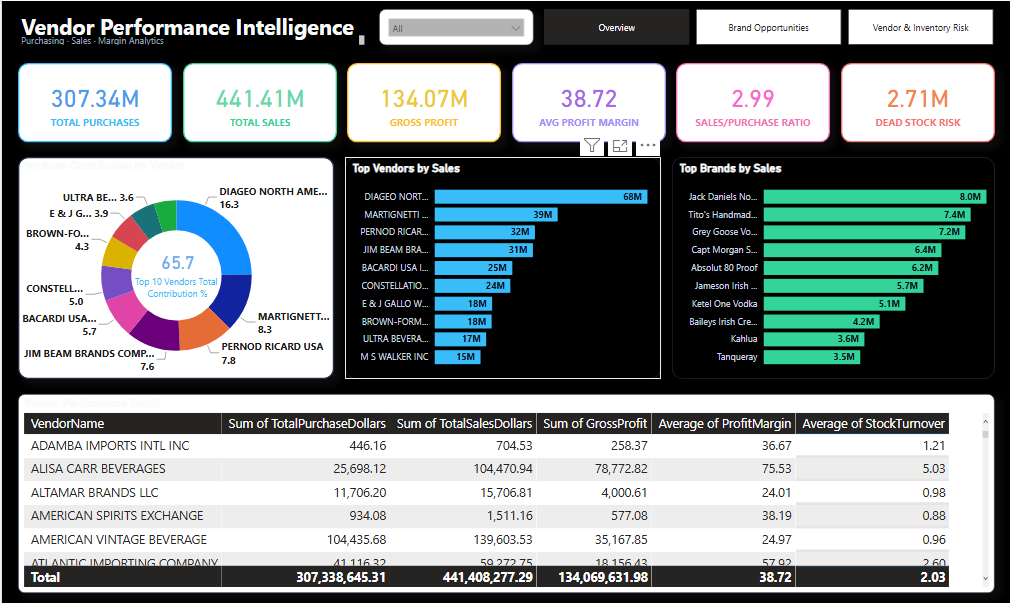

The dashboard page shown, as its layout file describes it:
{"tool":"powerbi","page":{"name":"Overview","canvas":[1500,900],"ordinal":0},"visuals":[{"type":"basicShape","box":[24,76,1452,3],"z":0},{"type":"textbox","box":[24,10,520,56],"z":1000},{"type":"textbox","box":[24,46,520,24],"z":2000},{"type":"slicer","fields":{"Values":["vendor_sales_summary.VendorName"]},"box":[560,12,230,54],"z":3000},{"type":"pageNavigator","box":[806,12,669.9,53.4],"z":4000},{"type":"card","fields":{"Values":["Sum(vendor_sales_summary.TotalPurchaseDollars)"]},"box":[24,92,228.7,118],"z":5000},{"type":"card","fields":{"Values":["Sum(vendor_sales_summary.TotalSalesDollars)"]},"box":[268.7,92,228.7,118],"z":6000},{"type":"card","fields":{"Values":["Sum(vendor_sales_summary.GrossProfit)"]},"box":[513.3,92,228.7,118],"z":7000},{"type":"card","fields":{"Values":["Avg(vendor_sales_summary.ProfitMargin)"]},"box":[758,92,228.7,118],"z":8000},{"type":"card","fields":{"Values":["Avg(vendor_sales_summary.SalesToPurchaseRatio)"]},"box":[1002.7,92,228.7,118],"z":9000},{"type":"card","fields":{"Values":["Sum(vendor_sales_summary.UnsoldCapital)"]},"box":[1247.3,92,228.7,118],"z":10000},{"type":"donutChart","title":"Purchase Contribution by Vendor","fields":{"Category":["PurchaseContribution.VendorName"],"Y":["Sum(PurchaseContribution.PurchaseContribution%)"]},"box":[24,232,470,330],"z":11000},{"type":"card","fields":{"Values":["Sum(PurchaseContribution.PurchaseContribution%)"]},"box":[189.5,305.6,144.1,178.8],"z":12000},{"type":"barChart","title":"Top Vendors by Sales","fields":{"Category":["vendor_sales_summary.VendorName"],"Y":["Sum(vendor_sales_summary.TotalSalesDollars)"]},"box":[510,232,470,330],"z":13000},{"type":"barChart","title":"Top Brands by Sales","fields":{"Category":["vendor_sales_summary.Description"],"Y":["Sum(vendor_sales_summary.TotalSalesDollars)"]},"box":[996,232,480,330],"z":14000},{"type":"table","title":"Vendor Performance Detail","fields":{"Values":["vendor_sales_summary.VendorName","Sum(vendor_sales_summary.TotalPurchaseDollars)","Sum(vendor_sales_summary.TotalSalesDollars)","Sum(vendor_sales_summary.GrossProfit)","Avg(vendor_sales_summary.ProfitMargin)","Avg(vendor_sales_summary.StockTurnover)"]},"box":[24,584,1452,296],"z":15000}]}

Visuals, with their boxes in screenshot pixels (x1, y1, x2, y2), scaled from the page's 1500x900 canvas onto the 1010x603 screenshot:
basicShape: 16,51,994,53
textbox: 16,7,366,44
textbox: 16,31,366,47
slicer - vendor_sales_summary.VendorName: 377,8,532,44
pageNavigator: 543,8,994,44
card - Sum(vendor_sales_summary.TotalPurchaseDollars): 16,62,170,141
card - Sum(vendor_sales_summary.TotalSalesDollars): 181,62,335,141
card - Sum(vendor_sales_summary.GrossProfit): 346,62,500,141
card - Avg(vendor_sales_summary.ProfitMargin): 510,62,664,141
card - Avg(vendor_sales_summary.SalesToPurchaseRatio): 675,62,829,141
card - Sum(vendor_sales_summary.UnsoldCapital): 840,62,994,141
"Purchase Contribution by Vendor" donutChart: 16,155,333,377
card - Sum(PurchaseContribution.PurchaseContribution%): 128,205,225,325
"Top Vendors by Sales" barChart: 343,155,660,377
"Top Brands by Sales" barChart: 671,155,994,377
"Vendor Performance Detail" table: 16,391,994,590
